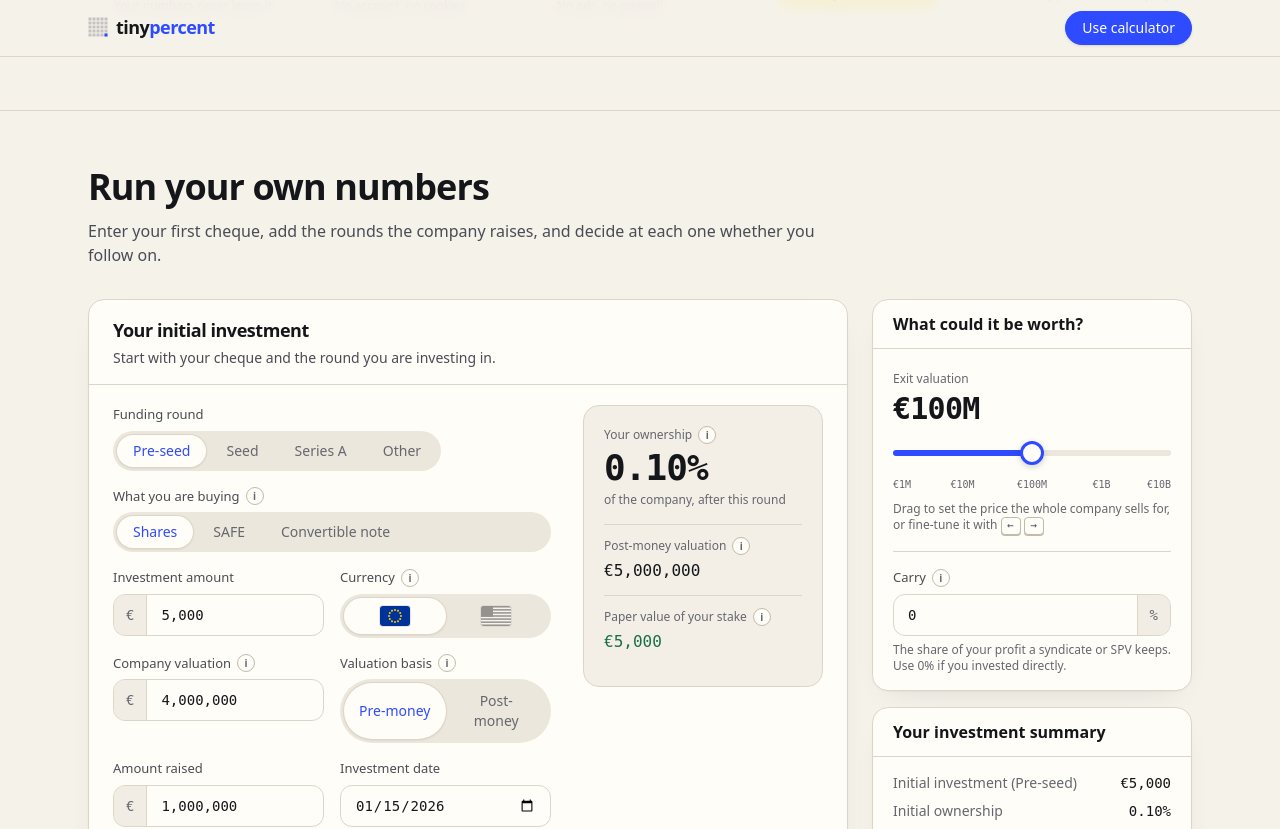
the calculator’s controls › lets you pick the round you invest in, or name another
(page scrolled)
Click the radio button labelled "Seed" at (243, 450), box [210,434,275,466]
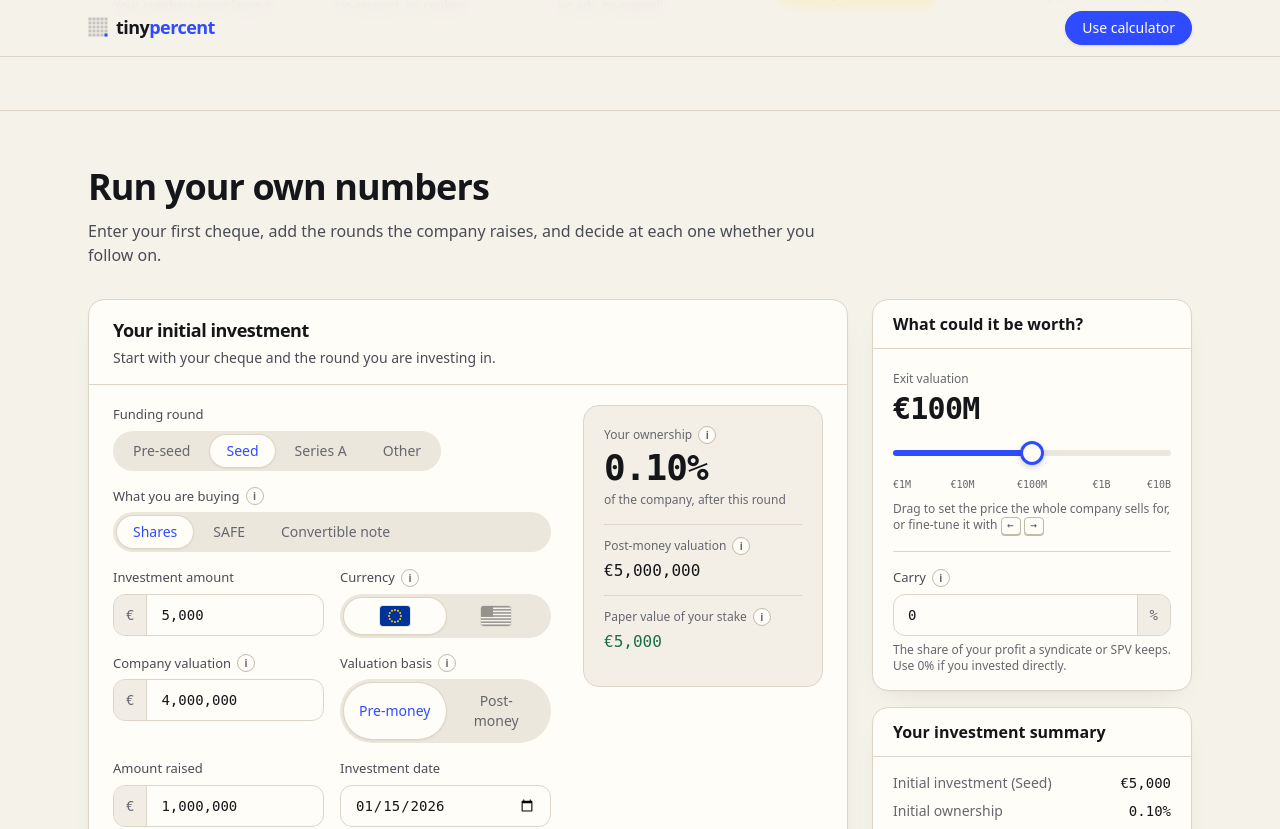
Now the text "Initial investment (Seed)" is shown, box [893,772,1052,792]
Click the radio button labelled "Other" at (402, 450), box [367,434,437,466]
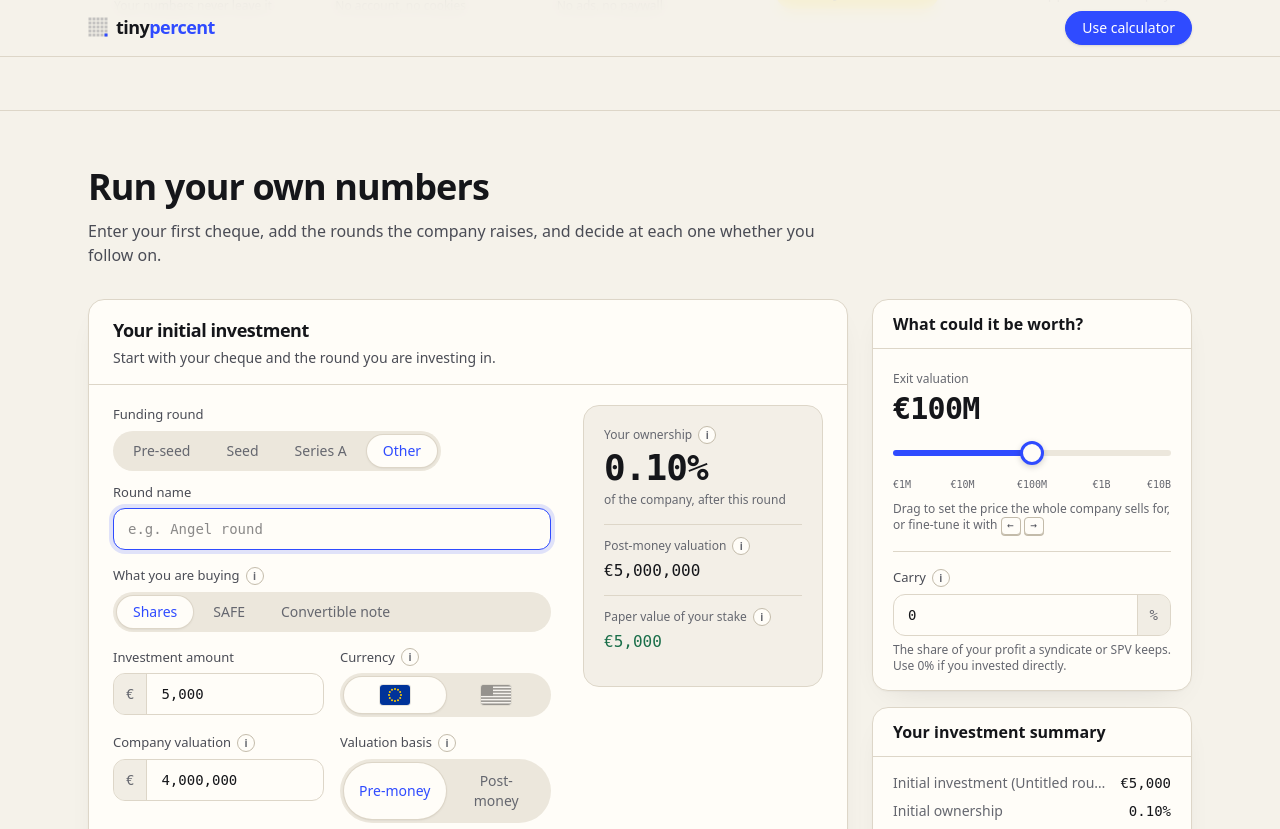
Type "Angel round" into the field labelled "Round name" at (332, 529), box [113,508,551,550]
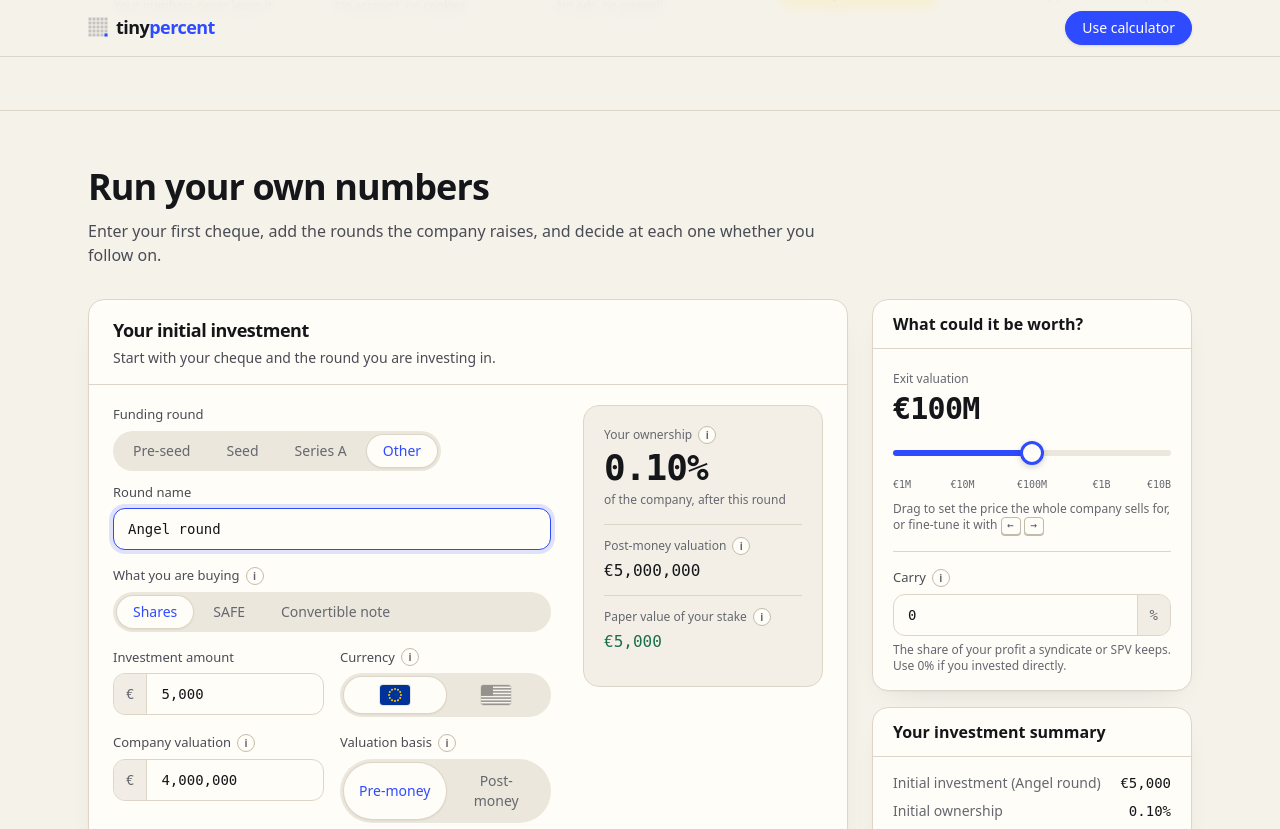
Now the text "Initial investment (Angel round)" is shown, box [893,772,1101,792]
